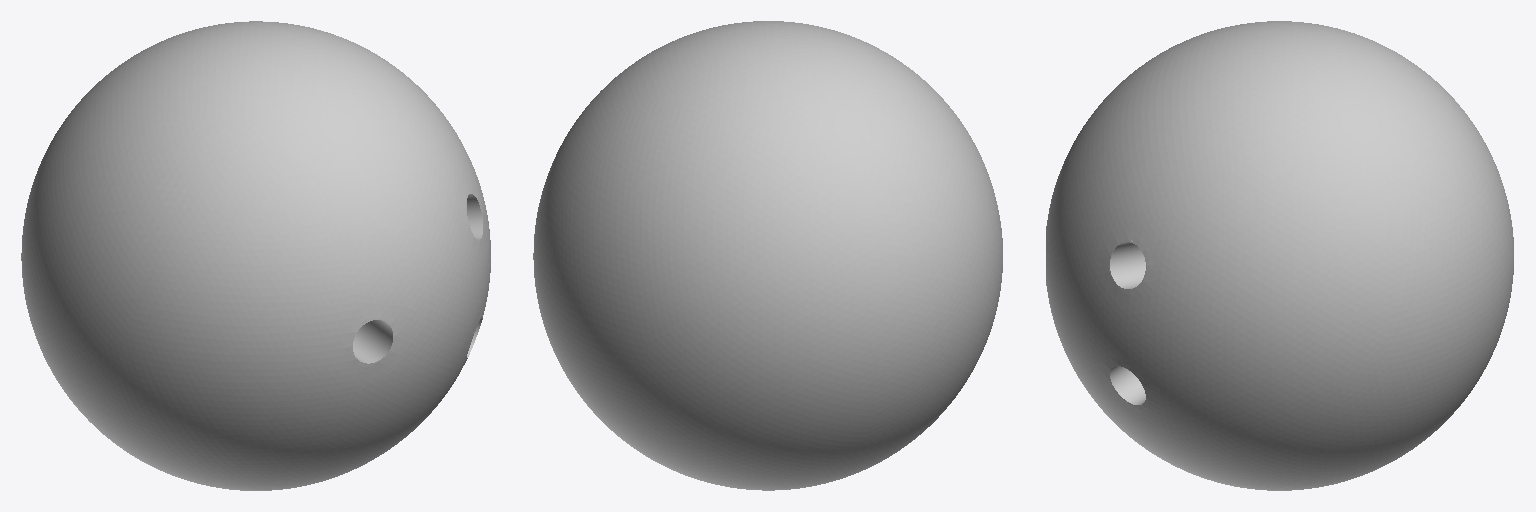
Rendered from Bowling Ball.obj.
The picture shows the model from 3 angles: view 1: azimuth 30°, elevation 25°; view 2: azimuth 150°, elevation 25°; view 3: azimuth 270°, elevation 25°; orthographic projection.
Parts seen in each view (by area): view 1: Object.1; view 2: Object.1; view 3: Object.1.
Boxes of the visible parts, box(x1,y1,x2,y2) form: Object.1: box(21, 21, 490, 490); Object.1: box(533, 21, 1002, 490); Object.1: box(1046, 21, 1513, 490).
Bounding box in the file's own units: 200 × 200 × 199.